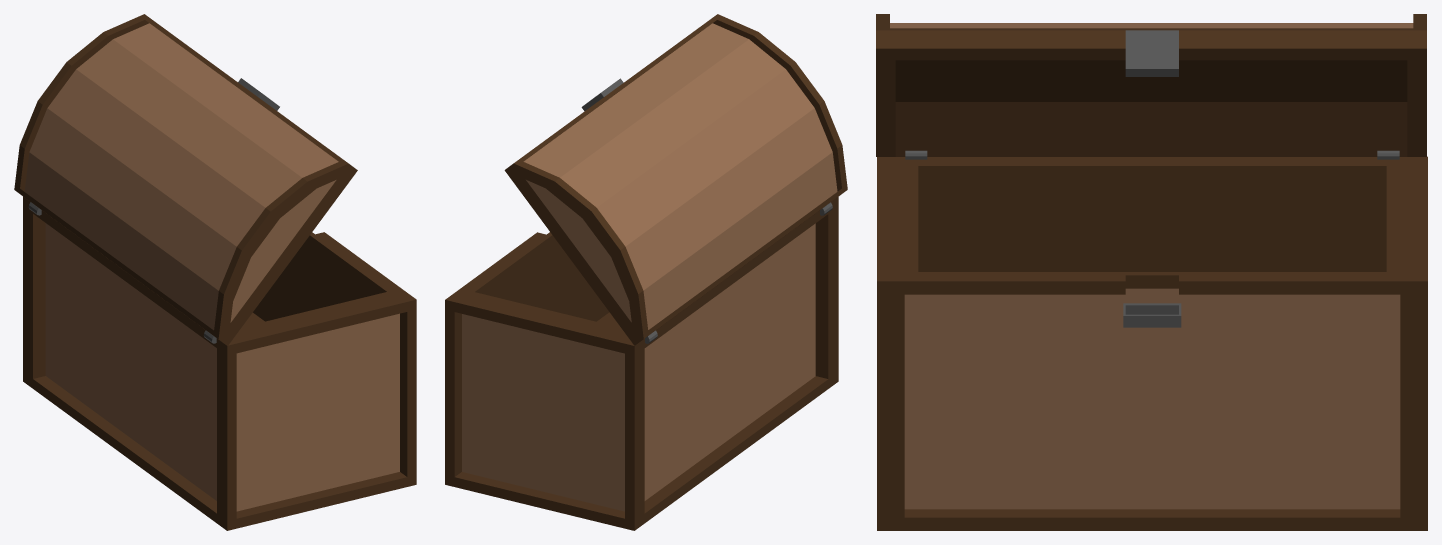
File: Chest.fbx
The picture shows the model from 3 angles, left to right: view 1: azimuth 30°, elevation 25°; view 2: azimuth 150°, elevation 25°; view 3: azimuth 270°, elevation 25°; orthographic projection. The views are drawn at different scales.
Visible parts, largest first — view 1: Cube, Cube.001; view 2: Cube, Cube.001; view 3: Cube, Cube.001, Cube.002.
Part boxes in pixels (box(x1,y1,x2,y2)): Cube: box(23, 196, 416, 530); Cube.001: box(14, 14, 357, 345); Cube: box(445, 197, 838, 530); Cube.001: box(504, 14, 847, 345); Cube: box(877, 156, 1427, 530); Cube.001: box(876, 14, 1426, 159); Cube.002: box(1123, 303, 1181, 327).
Size of the model in its own units: 162 by 257 by 280.
